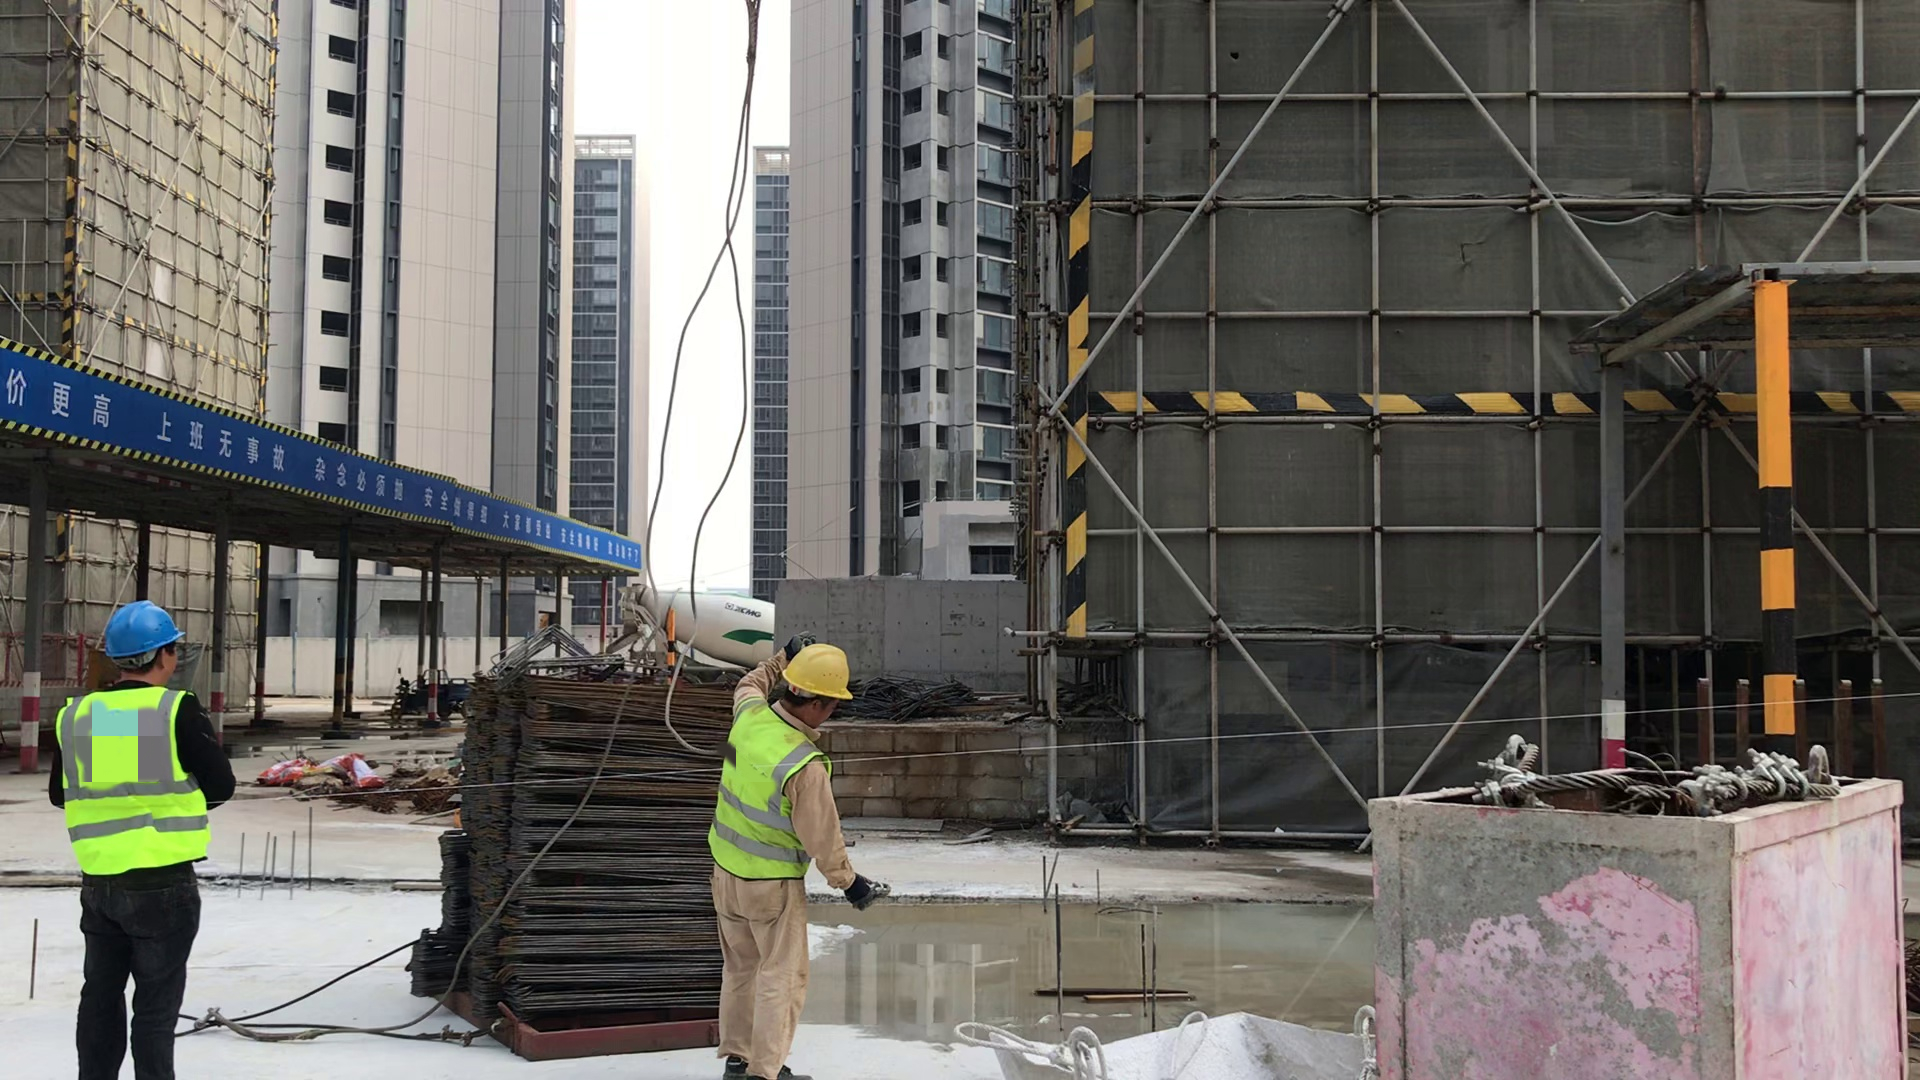helmet: (104, 601, 182, 656), (783, 643, 852, 699)
hopper: (986, 1010, 1384, 1080)
person: (50, 603, 207, 1080), (709, 637, 868, 1080)
slogan: (5, 353, 644, 568)
vest: (65, 695, 215, 881), (715, 719, 821, 880)
